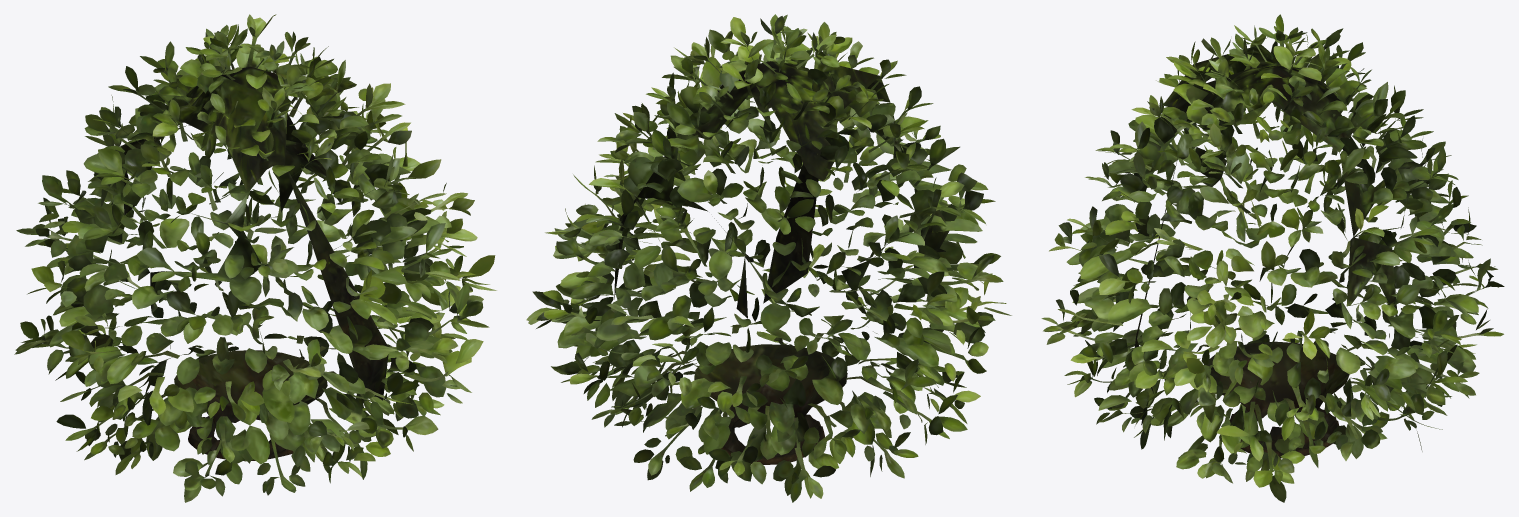
File: bush_hotel_game.glb
3 renders of one model, left to right at view 1: azimuth 30°, elevation 25°; view 2: azimuth 150°, elevation 25°; view 3: azimuth 270°, elevation 25°, orthographic. The views are drawn at different scales.
Visible parts, largest first — view 1: tripo_node_993ca6d2-9df8-40c8-b224-52da81f78eb7; view 2: tripo_node_993ca6d2-9df8-40c8-b224-52da81f78eb7; view 3: tripo_node_993ca6d2-9df8-40c8-b224-52da81f78eb7.
Boxes of the visible parts, x1,y1,x2,y2 form: tripo_node_993ca6d2-9df8-40c8-b224-52da81f78eb7: [14, 14, 496, 502]; tripo_node_993ca6d2-9df8-40c8-b224-52da81f78eb7: [526, 14, 1011, 502]; tripo_node_993ca6d2-9df8-40c8-b224-52da81f78eb7: [1041, 14, 1504, 502].
Bounding box in the file's own units: 1.2 × 1.2 × 1.24.
1 material, 1 textured.
